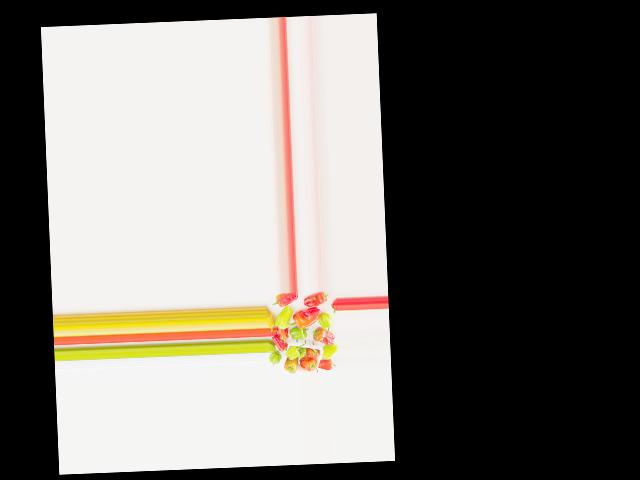bell_pepper: (271, 292, 295, 309)
